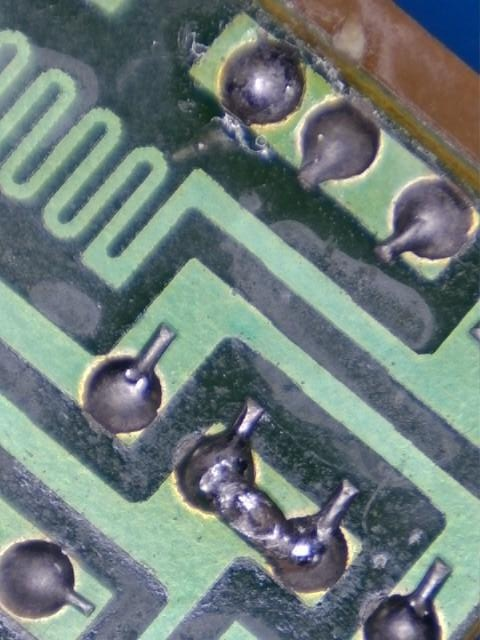pcb_defect: (198, 454, 321, 566)
